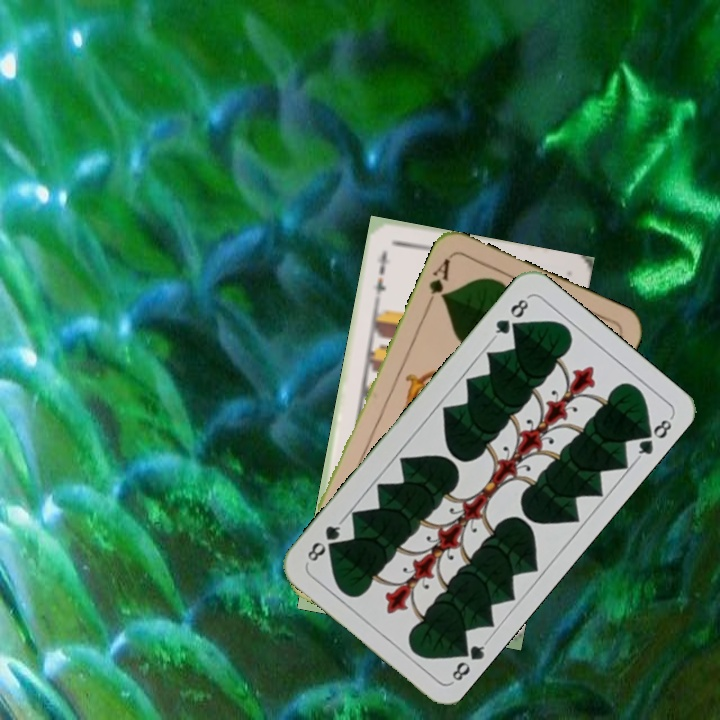E7: (371, 246, 393, 301)
G8: (447, 636, 491, 686), (489, 293, 532, 342)
GA: (423, 254, 453, 310)
